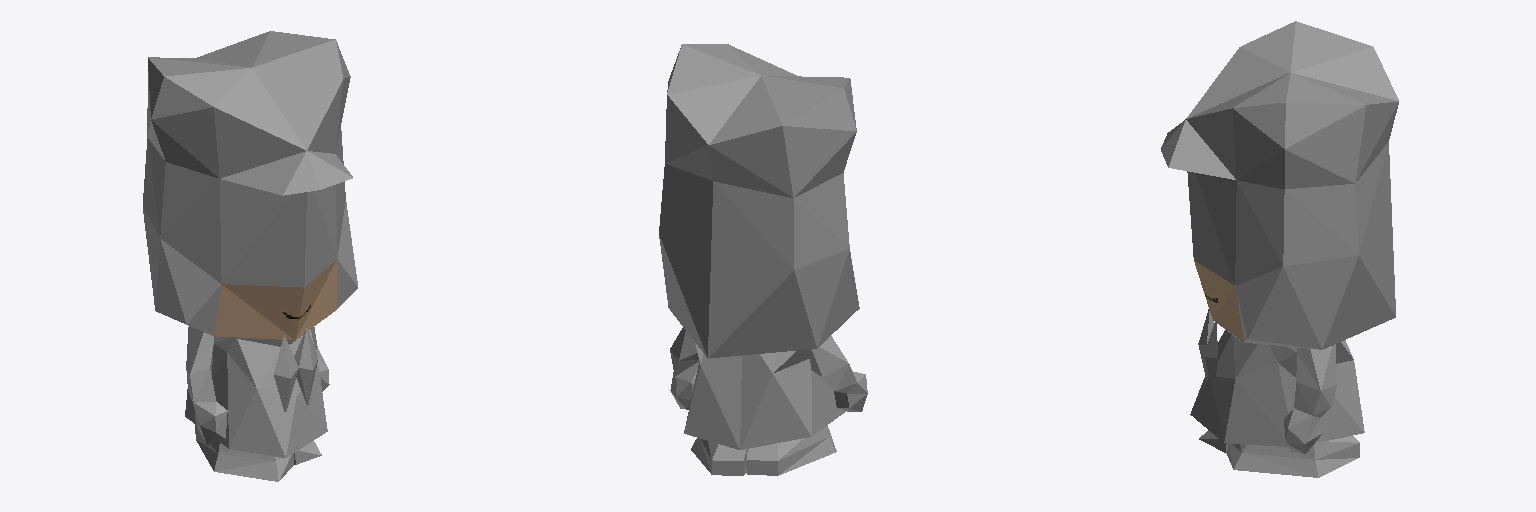
3 renders of one model, left to right at view 1: azimuth 30°, elevation 25°; view 2: azimuth 150°, elevation 25°; view 3: azimuth 270°, elevation 25°, orthographic.
Parts seen in each view (by area): view 1: DrawCall_98_mater.024; view 2: DrawCall_98_mater.024; view 3: DrawCall_98_mater.024.
Part boxes in pixels (x1,y1,x2,y2): DrawCall_98_mater.024: (143, 31, 357, 481); DrawCall_98_mater.024: (659, 44, 867, 475); DrawCall_98_mater.024: (1161, 21, 1398, 477).
Size of the model in its own units: 1.8 by 3.45 by 1.92.
Materials: 4 (1 with a texture image).